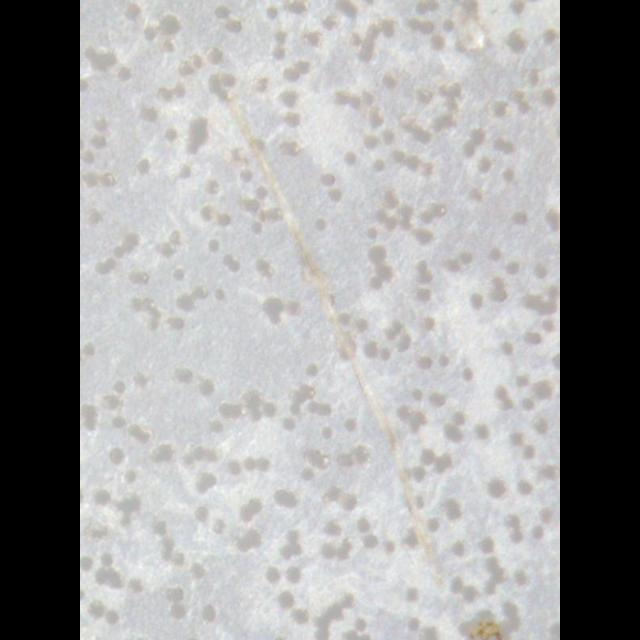Fibre: (186, 0, 456, 574)
